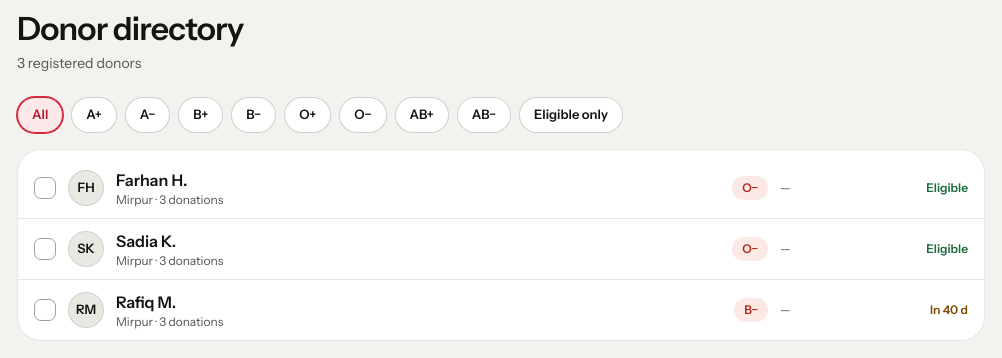
Scenario: donor directory page › filters by eligibility
The image size is (1002, 358).
Expected: the text "Rafiq M." is shown, [116,292,176,312]
Click the button "Eligible only".
click(571, 115)  # box [519,97,623,133]
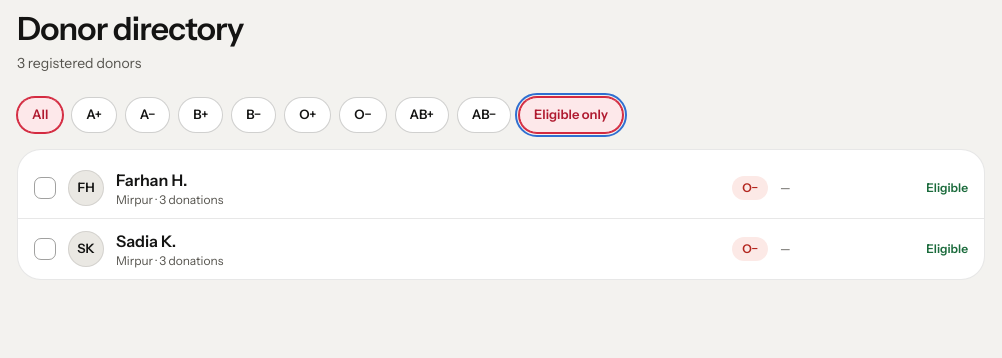
Expected: the text "Farhan H." is shown, [116,170,187,190]
Result: the text "Rafiq M." is gone
